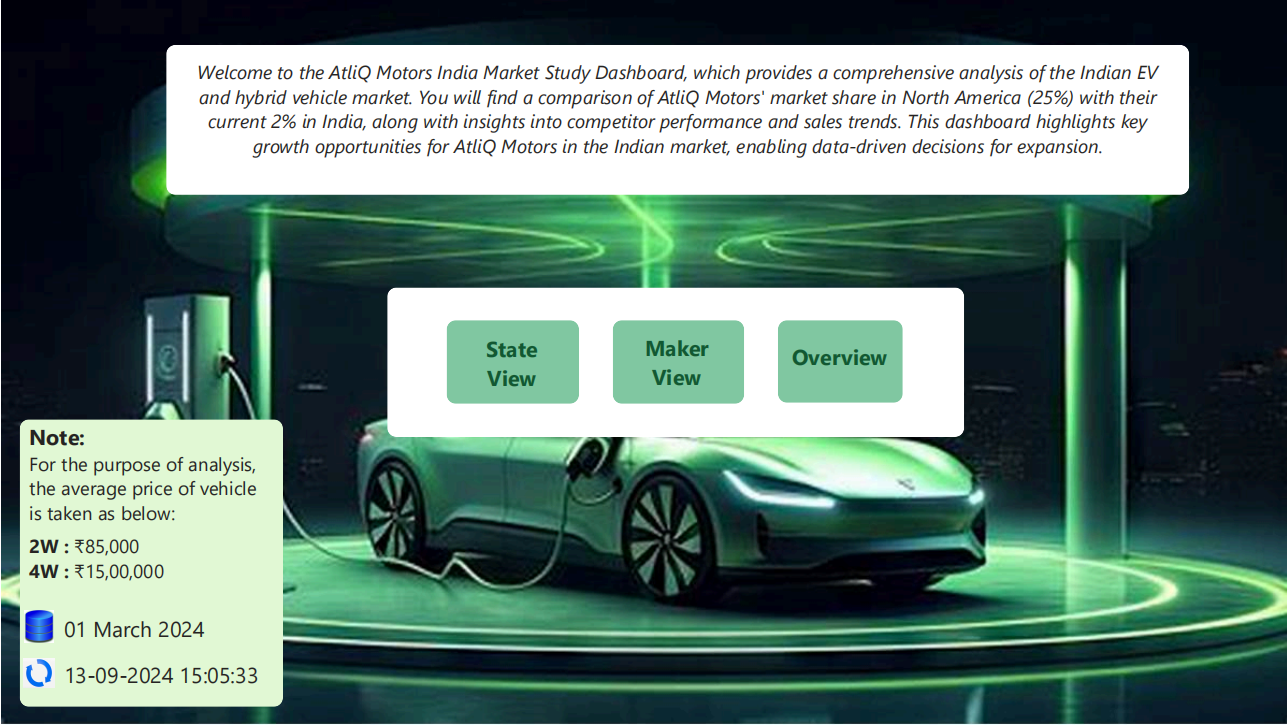

The dashboard page shown, as its layout file describes it:
{"tool":"powerbi","page":{"name":"Home","canvas":[2560,1440],"ordinal":0},"visuals":[{"type":"shape","box":[327.5,89.3,2032,297.7],"z":0},{"type":"textbox","box":[890.2,658.2,250.6,124.1],"z":0,"group":"g2"},{"type":"textbox","box":[1225.4,655.7,235.7,124.1],"z":1000,"group":"g1"},{"type":"shape","box":[36.8,832.9,523.5,570.7],"z":1000},{"type":"shape","box":[766.7,570.7,1146.3,297.7],"z":2000},{"type":"shape","box":[885.2,635.9,263,166.2],"z":3000,"group":"g2"},{"type":"group","id":"g1","title":"Group 2","box":[1215.5,635.9,260.5,166.2],"z":3000},{"type":"group","id":"g2","title":"Group 3","box":[885.2,635.9,263,166.2],"z":4000},{"type":"shape","box":[1215.5,635.9,260.5,166.2],"z":4000,"group":"g1"},{"type":"group","id":"g3","title":"Group 1","box":[1543.2,635.9,248.1,163.8],"z":5000},{"type":"textbox","box":[1545.7,673.1,243.1,86.8],"z":5000,"group":"g3"},{"type":"shape","box":[1543.2,635.9,248.1,163.8],"z":6000,"group":"g3"},{"type":"card","fields":{"Values":["Min(Date Refresh.date_time)"]},"box":[113.7,1311.7,409.4,54.6],"z":6000,"group":"g5"},{"type":"image","box":[36.8,1304.3,76.9,67],"z":7000,"group":"g5"},{"type":"image","box":[36.8,1207.5,76.9,74.4],"z":8000,"group":"g4"},{"type":"card","fields":{"Values":["Key_Measures.Data loaded till"]},"box":[106.3,1214.9,317.6,64.5],"z":9000,"group":"g4"},{"type":"textbox","box":[51.7,832.9,471.4,374.6],"z":10000},{"type":"textbox","box":[354.8,111.6,1979.9,250.6],"z":11000},{"type":"group","id":"g4","title":"Group 4","box":[36.8,1207.5,387.1,74.4],"z":11001},{"type":"group","id":"g5","title":"Group 5","box":[36.8,1304.3,486.3,67],"z":11002}]}

Visuals, with their boxes in screenshot pixels (x1, y1, x2, y2), scaled from the page's 2560x1440 canvas onto the 1287x726 screenshot:
shape: [165,45,1186,195]
textbox: [448,332,574,394]
textbox: [616,331,735,393]
shape: [19,420,282,708]
shape: [385,288,962,438]
shape: [445,321,577,404]
"Group 2" group: [611,321,742,404]
"Group 3" group: [445,321,577,404]
shape: [611,321,742,404]
"Group 1" group: [776,321,901,403]
textbox: [777,339,899,383]
shape: [776,321,901,403]
card - Min(Date Refresh.date_time): [57,661,263,689]
image: [19,658,57,691]
image: [19,609,57,646]
card - Key_Measures.Data loaded till: [53,613,213,645]
textbox: [26,420,263,609]
textbox: [178,56,1174,183]
"Group 4" group: [19,609,213,646]
"Group 5" group: [19,658,263,691]
